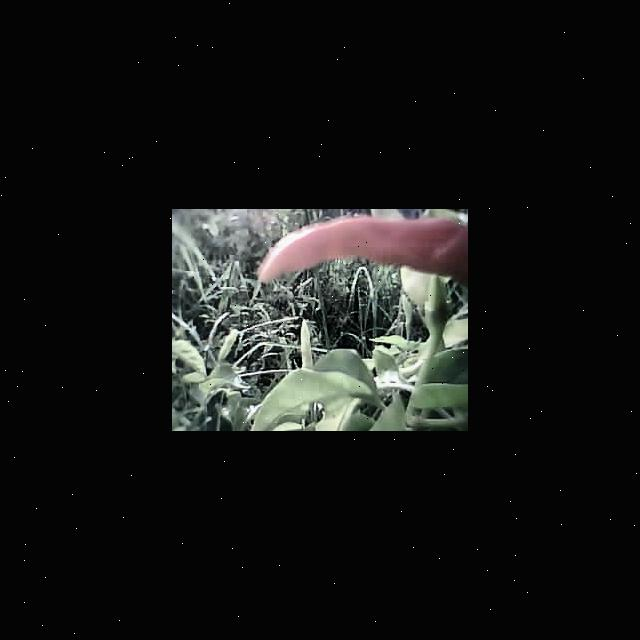Cabai: (259, 216, 468, 287)
